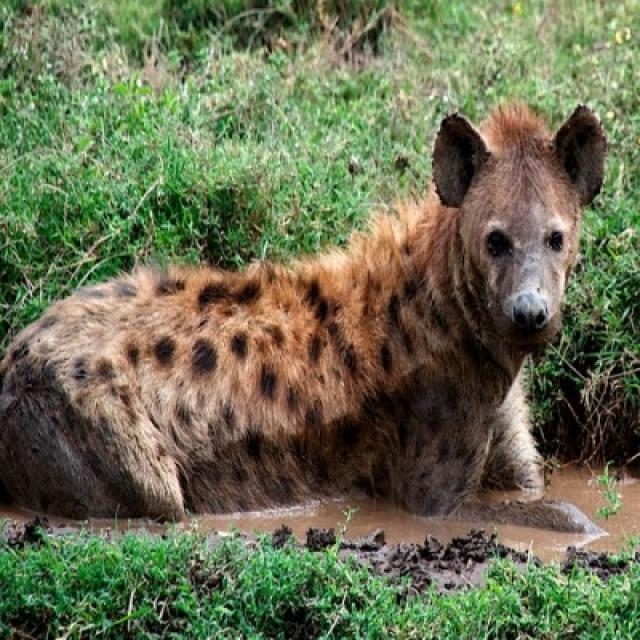hyena: (0, 99, 610, 525)
